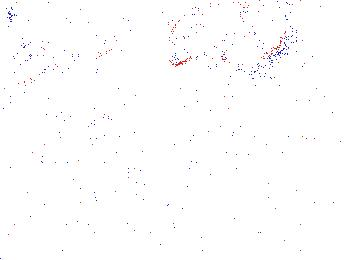moon jellyfish: (1, 1, 123, 62), (165, 1, 250, 68), (221, 1, 288, 73), (1, 22, 44, 105)
